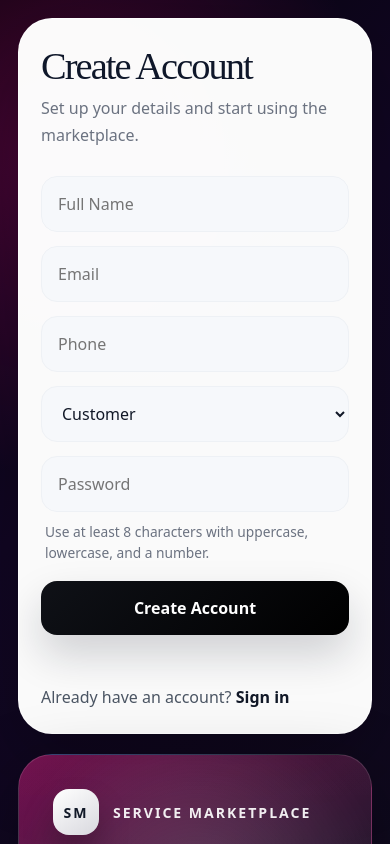
shows an error message when registration fails
This screenshot has width=390, height=844.
Type "Test Customer" into the field with placeholder "Full Name". click: x=195, y=204
box: [41,176,349,232]
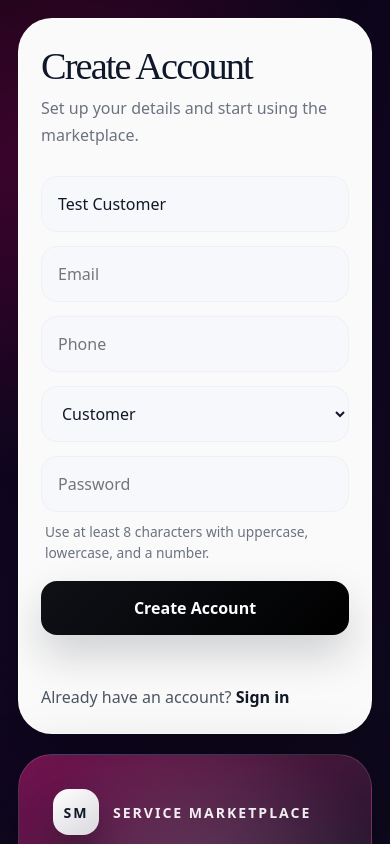
Type "customer7@test.com" into the field with placeholder "Email". click: x=195, y=274
box: [41,246,349,302]
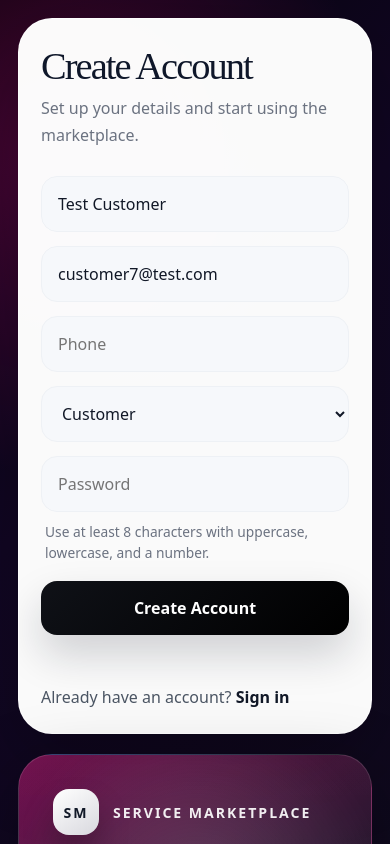
Type "1234567890" into the field with placeholder "Phone". click: x=195, y=344
box: [41,316,349,372]
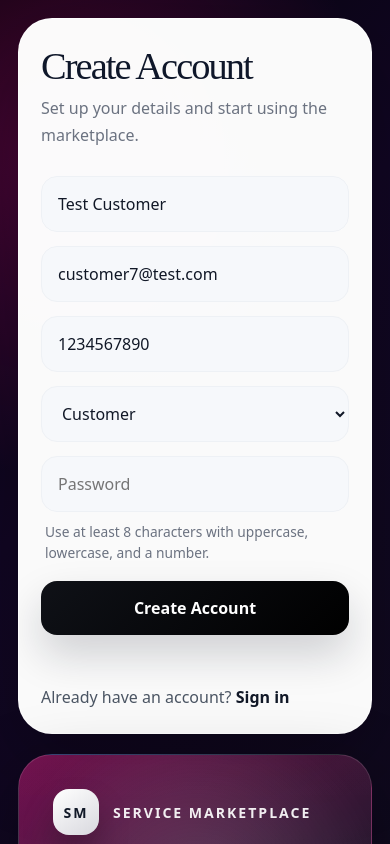
Type "StrongPass1" into the password field with placeholder "Password". click: x=195, y=484
box: [41,456,349,512]
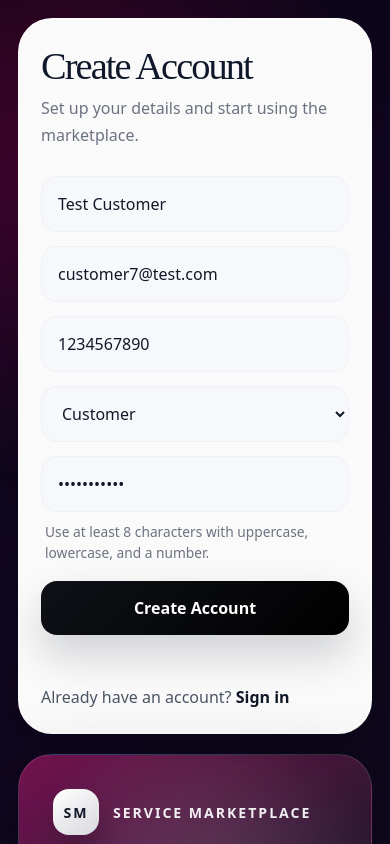
Click the button "Create Account". click: x=195, y=608
box: [41,582,349,636]
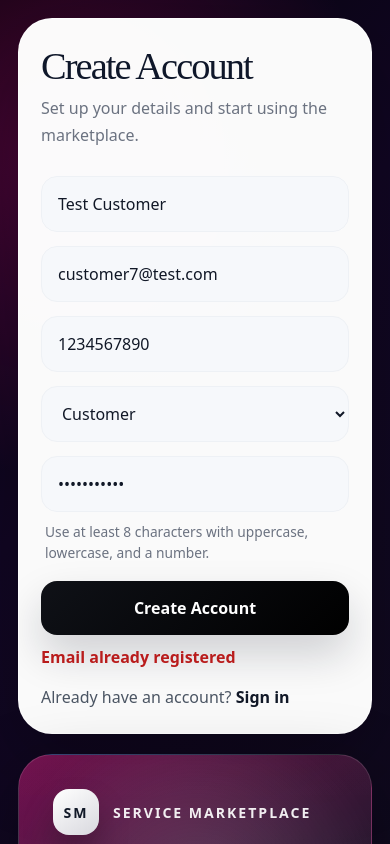
Check: the text "Email already registered" is shown, box [41,646,236,668]
